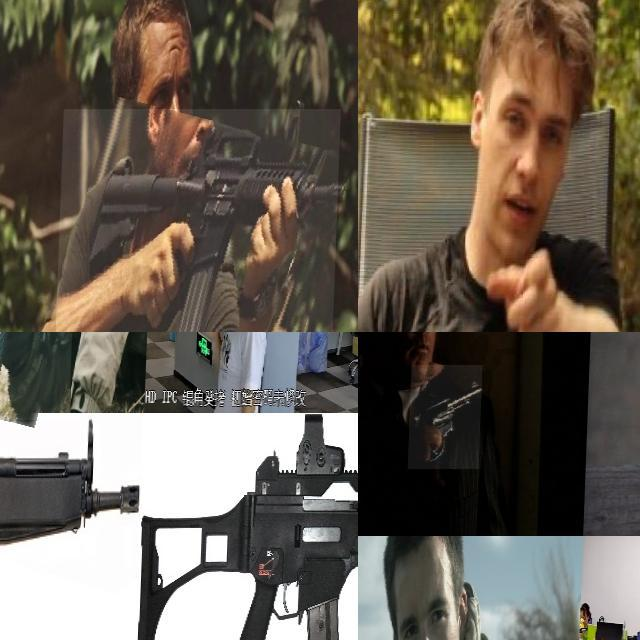gun-knife-thesis - v11 Yolov5 augmented: (57, 108, 342, 332), (136, 412, 358, 640), (0, 415, 153, 640), (0, 332, 90, 431), (409, 365, 484, 469), (179, 332, 219, 359)
